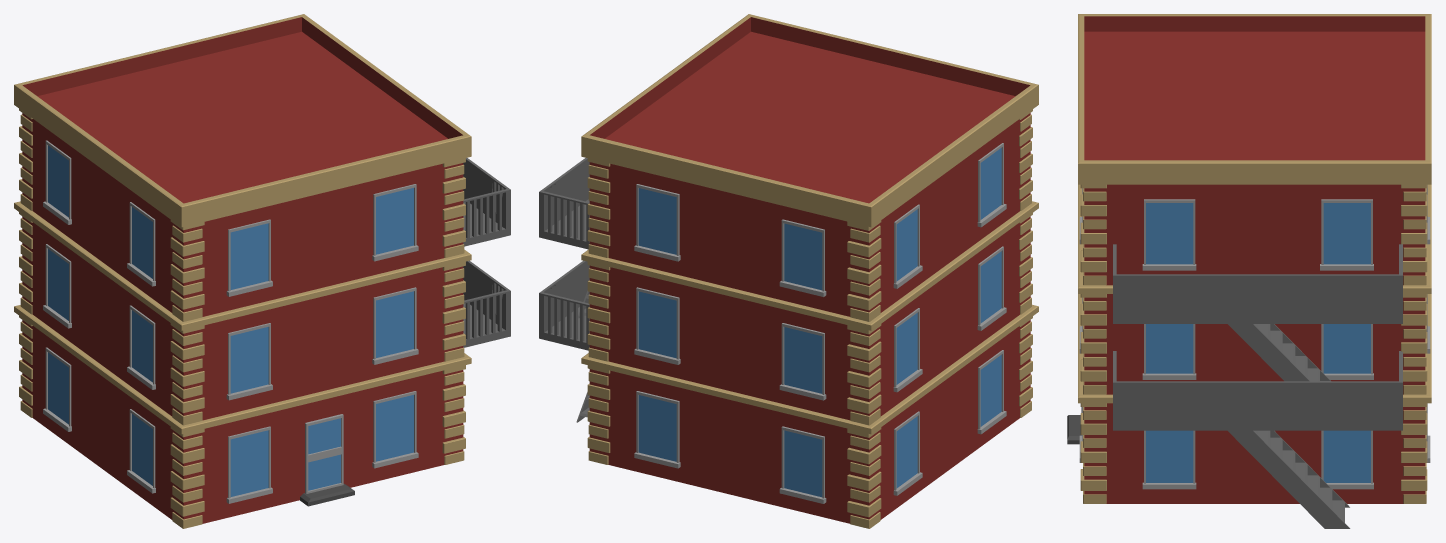
The model's file is GebouwRoodLaag.fbx.
3 renders of one model, left to right at view 1: azimuth 30°, elevation 25°; view 2: azimuth 150°, elevation 25°; view 3: azimuth 270°, elevation 25°, orthographic. The views are drawn at different scales.
Parts seen in each view (by area): view 1: gebouwRoodLaag; view 2: gebouwRoodLaag; view 3: gebouwRoodLaag.
Boxes of the visible parts, x1,y1,x2,y2 form: gebouwRoodLaag: (14,14,510,528); gebouwRoodLaag: (539,14,1038,528); gebouwRoodLaag: (1067,14,1431,528).
Size of the model in its own units: 742 by 667 by 641.
